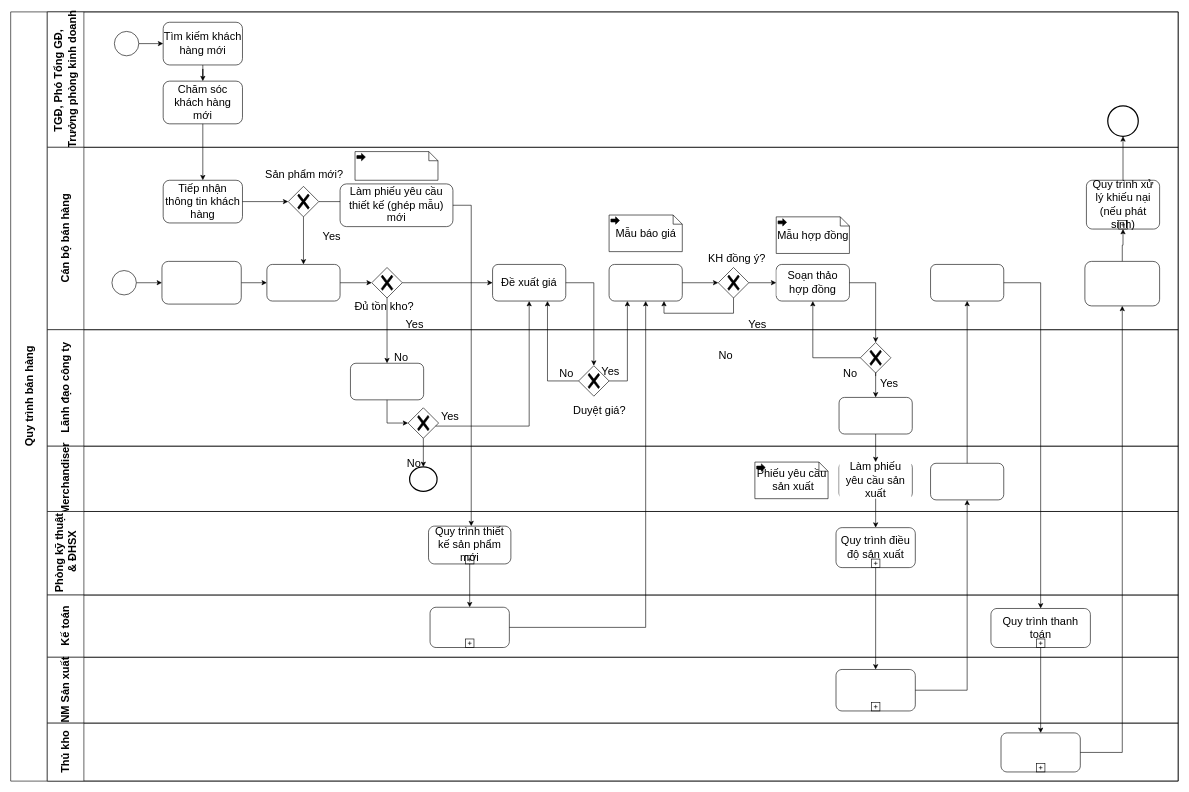
Some shapes in this 1189 by 792 pixel diagram are drawn without their labels. Each missing label, with the centre of its shape:
"Chào giá với khách hàng" goes at [645,282].
"Kiểm tra tồn kho" goes at [303,282].
"Ký kết hợp đồng" goes at [875,415].
"Lập hóa đơn bán hàng" goes at [967,282].
"Phiếu yêu cầu" goes at [396,165].
"Quy trình giao hàng" goes at [1040,752].
"Quy trình lập dự toán" goes at [469,627].
"Thanh lý hợp đồng (nếu có)" goes at [1122,283].
"Theo dõi tiến độ đơn hàng" goes at [967,481].
"Tiếp nhận đơn hàng theo hợp đồng đã ký" goes at [201,282].
"Triển khai sản xuất" goes at [875,690].
"Đánh giá khả năng đap ứng" goes at [387,381].
